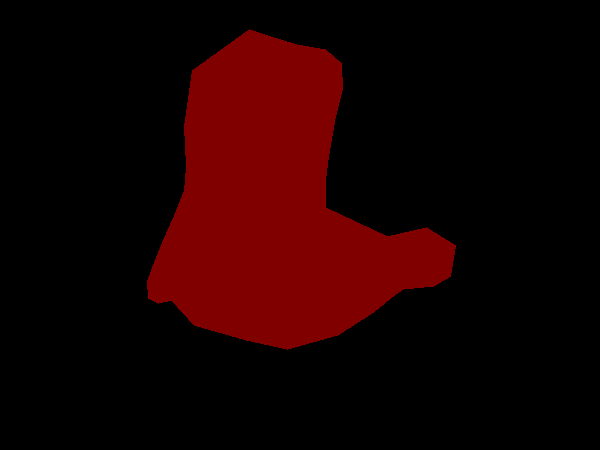fire: (147, 29, 455, 349)
